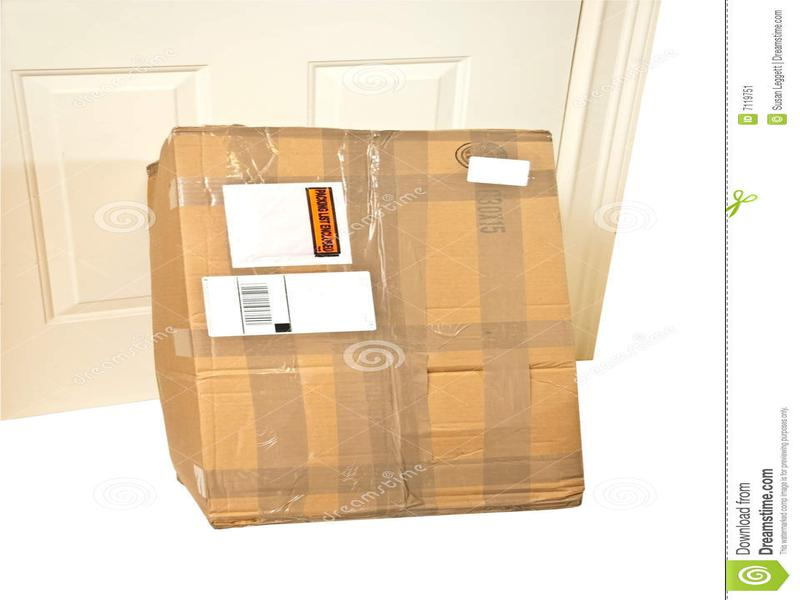package: (130, 113, 599, 536)
